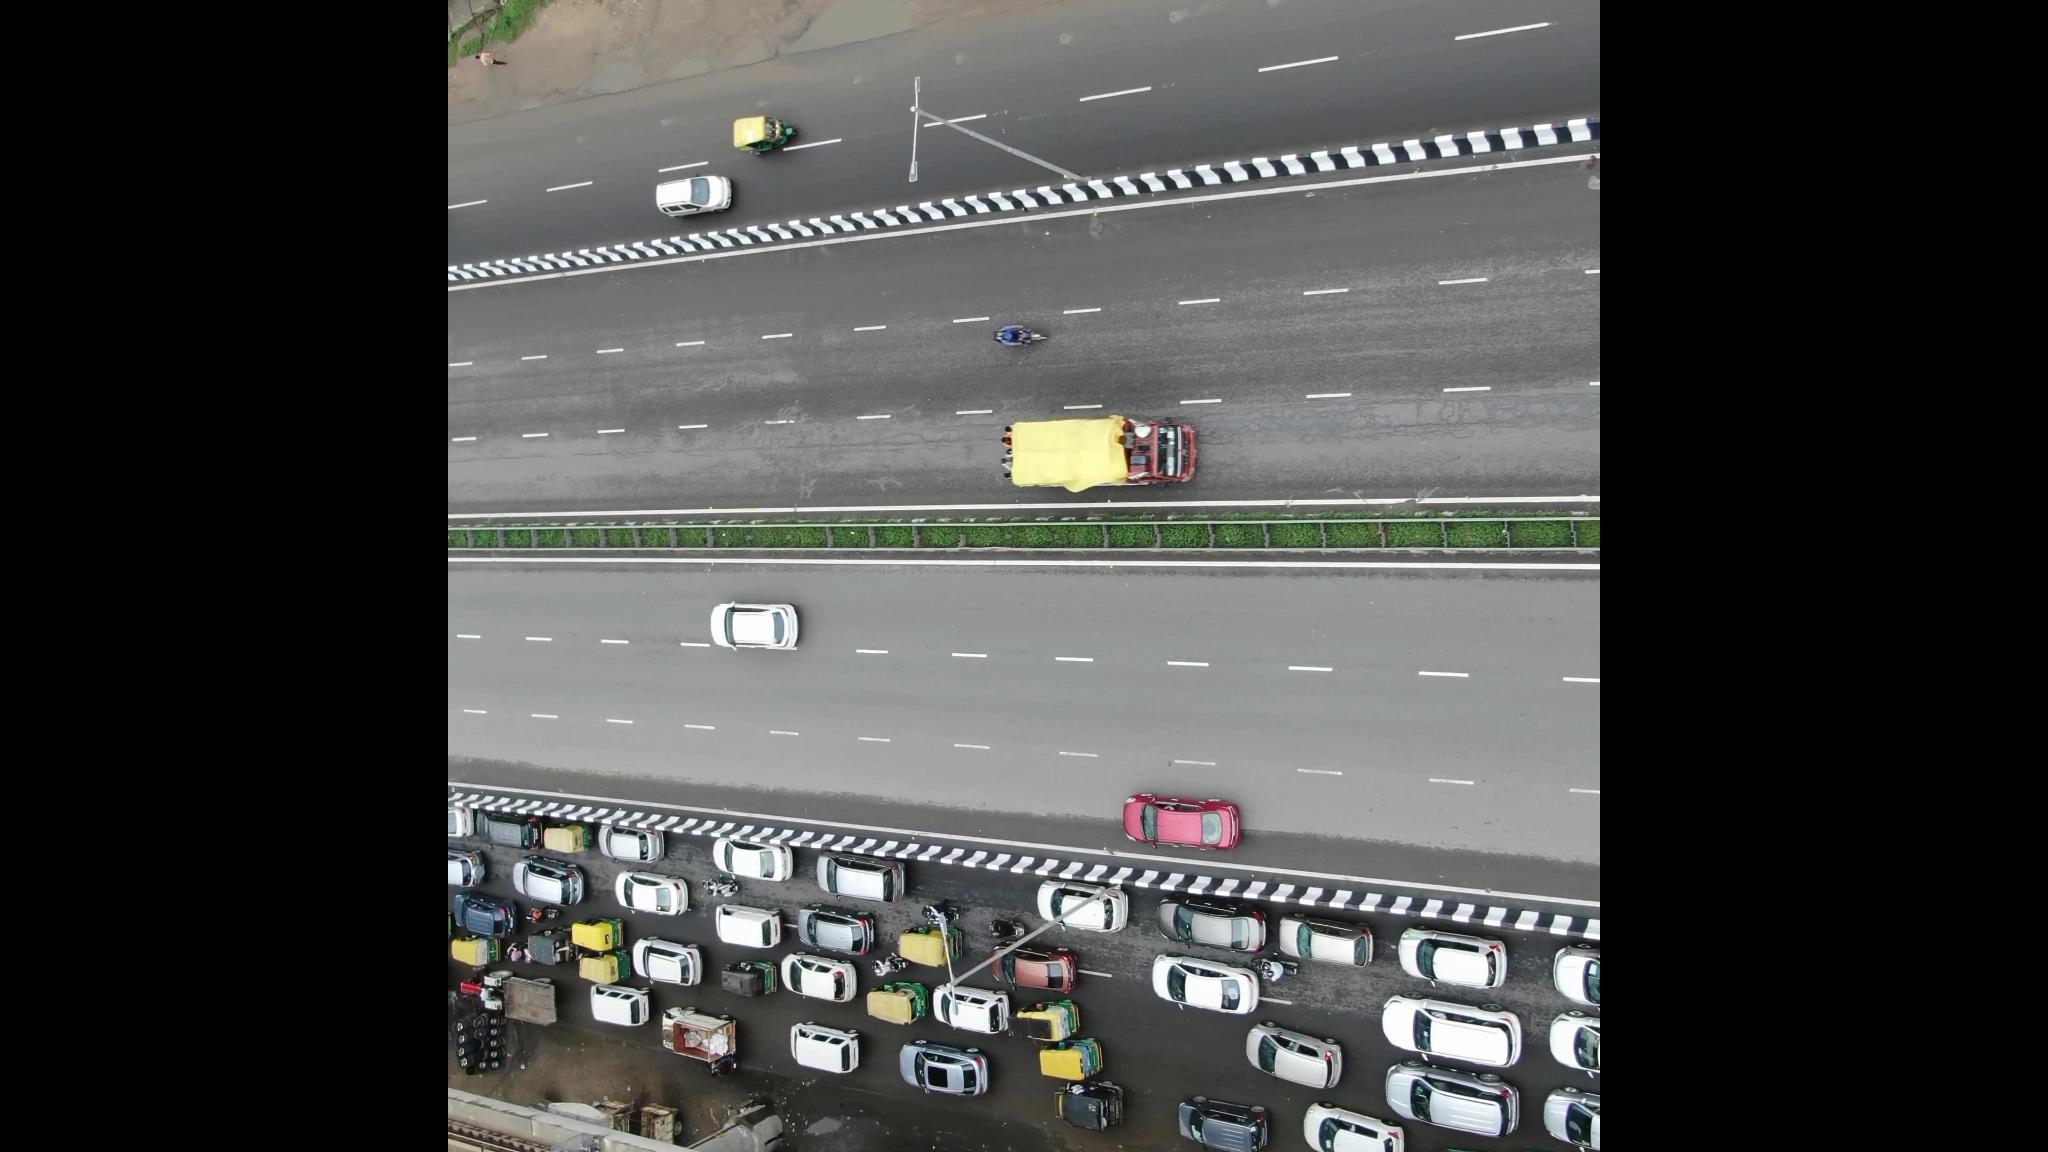Cracks: (1328, 352, 1575, 488), (788, 371, 978, 501), (602, 390, 769, 497), (1212, 350, 1321, 475)
